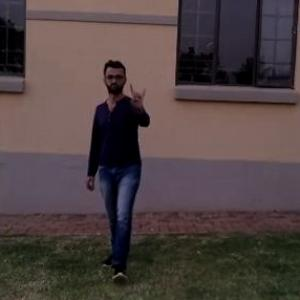takeoff-hand: (124, 80, 150, 114)
